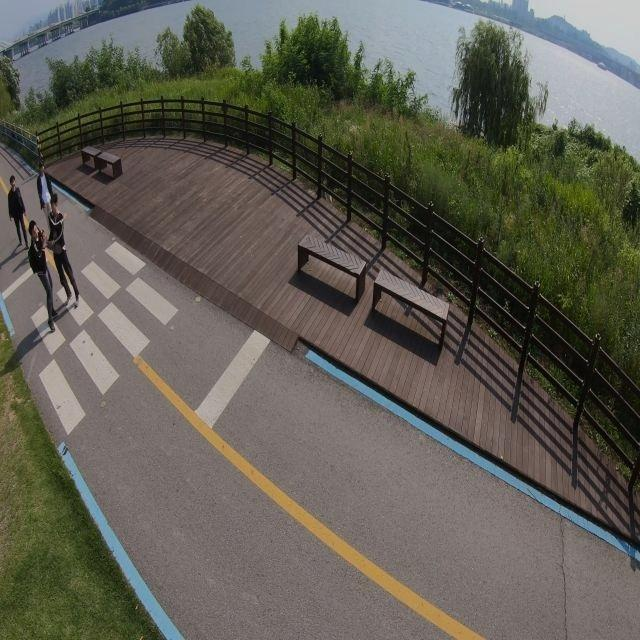non-fight: (45, 192, 80, 308), (26, 220, 61, 330), (35, 160, 62, 229), (6, 175, 29, 250)
